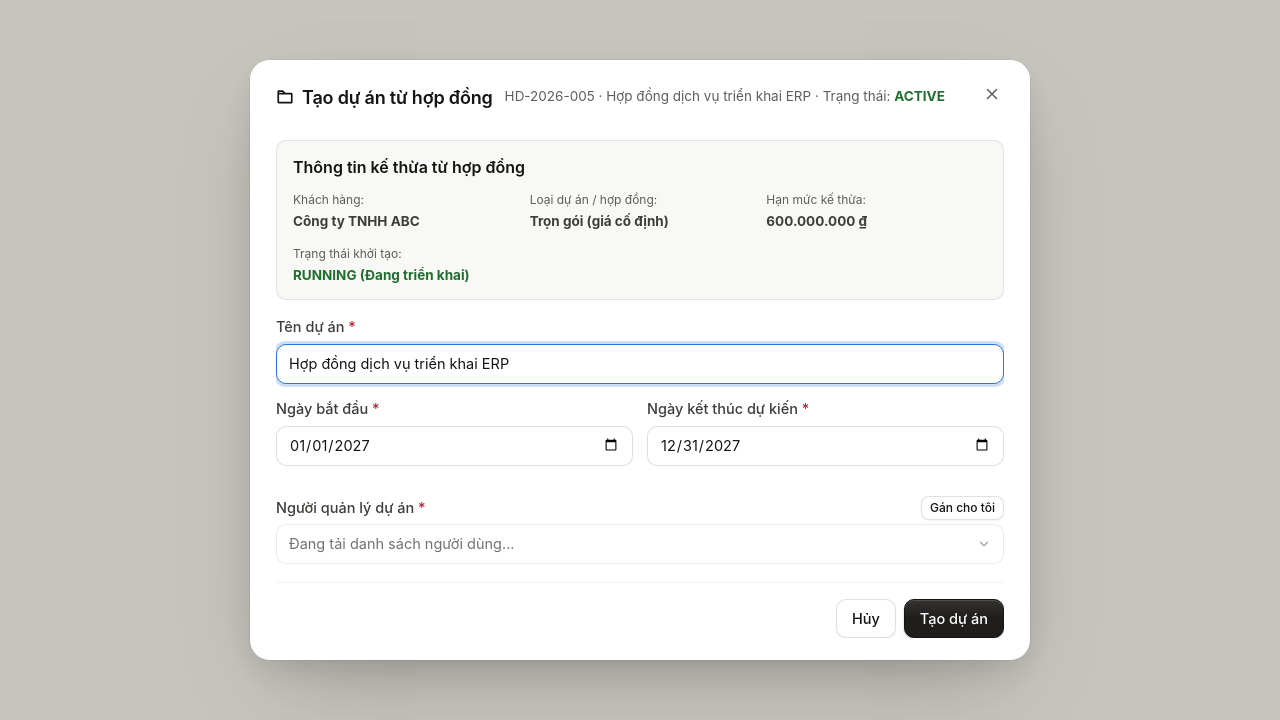
Scenario: CreateProjectModal (NCL-05-CN-001 — Tạo dự án từ hợp đồng) › TC-03c: Báo lỗi validation khi ngày kết thúc dự kiến sớm hơn ngày bắt đầu
The width and height of the screenshot is (1280, 720).
Type "2027-10-01" into the date field labelled "Ngày bắt đầu *" at x=454, y=446, box x1=276 y1=426 x2=633 y2=466
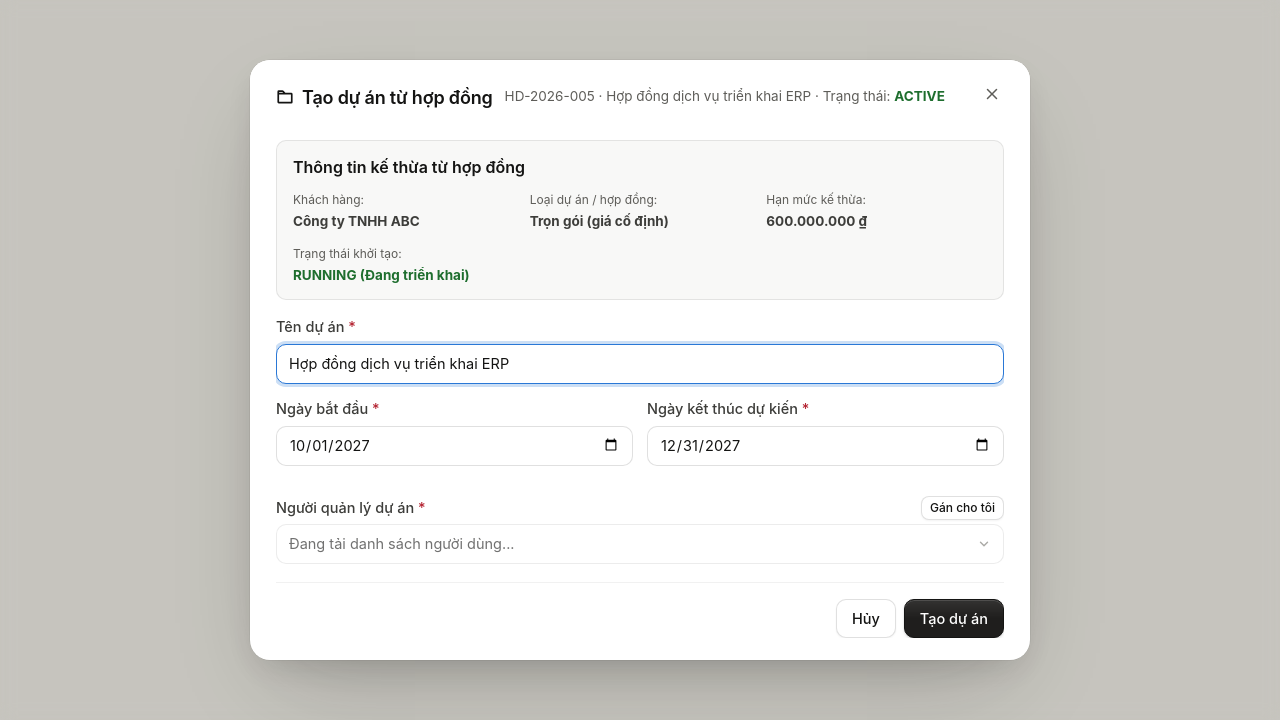
Type "2027-09-30" into the date field labelled "Ngày kết thúc dự kiến *" at x=826, y=446, box x1=647 y1=426 x2=1004 y2=466
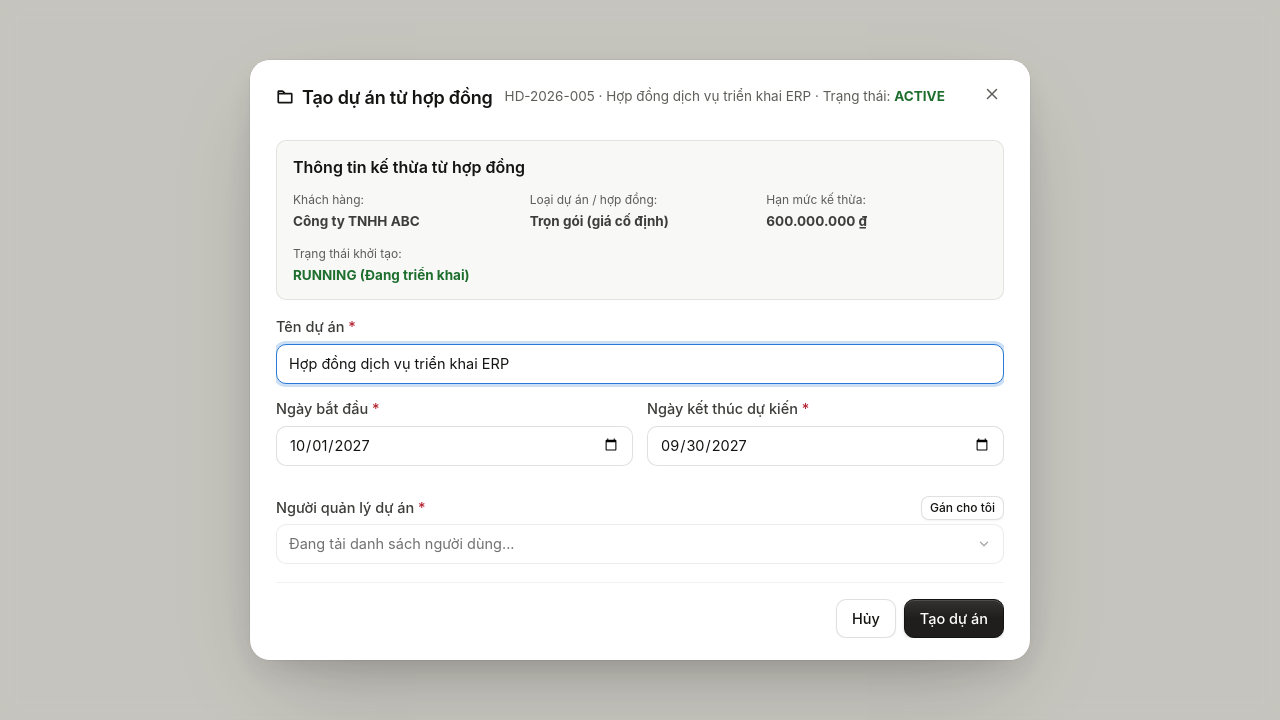
Click the button with test id "submit-create-project-btn" at x=954, y=618, box x1=904 y1=598 x2=1004 y2=638
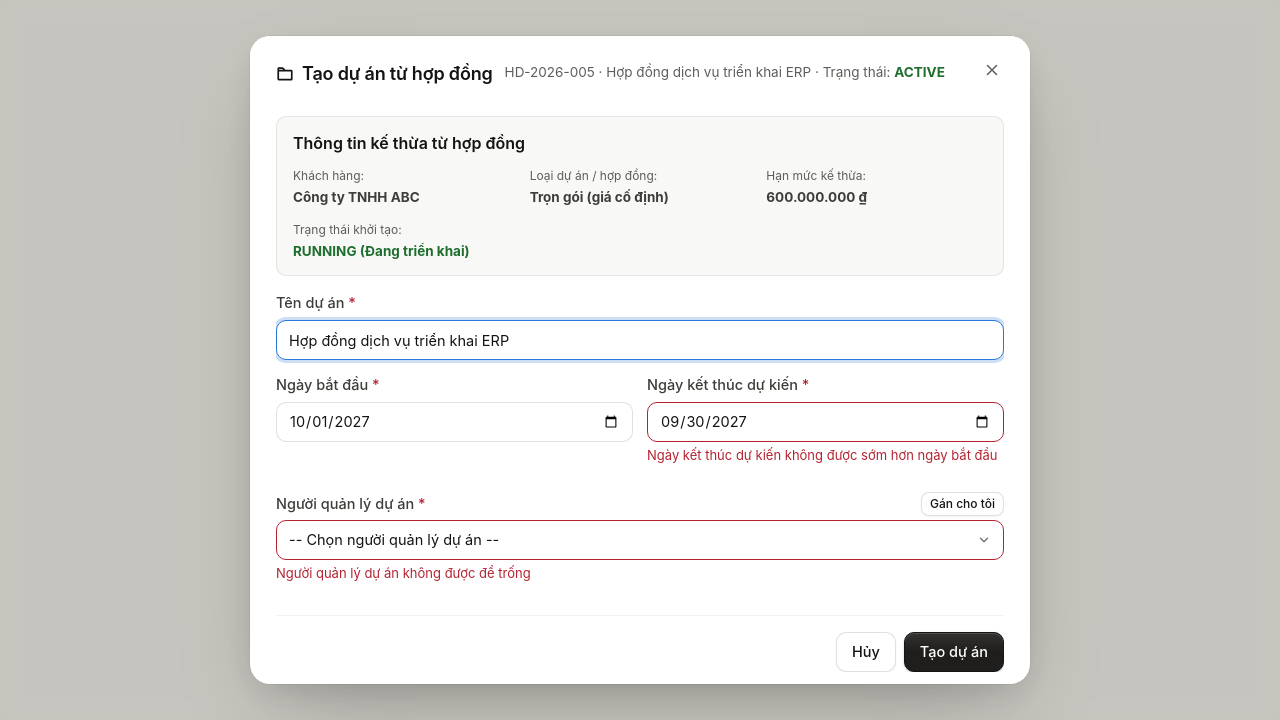
Check: the text with test id "error-expected-end-date" reads "Ngày kết thúc dự kiến không được sớm hơn ngày bắt đầu", box x1=647 y1=447 x2=998 y2=463
